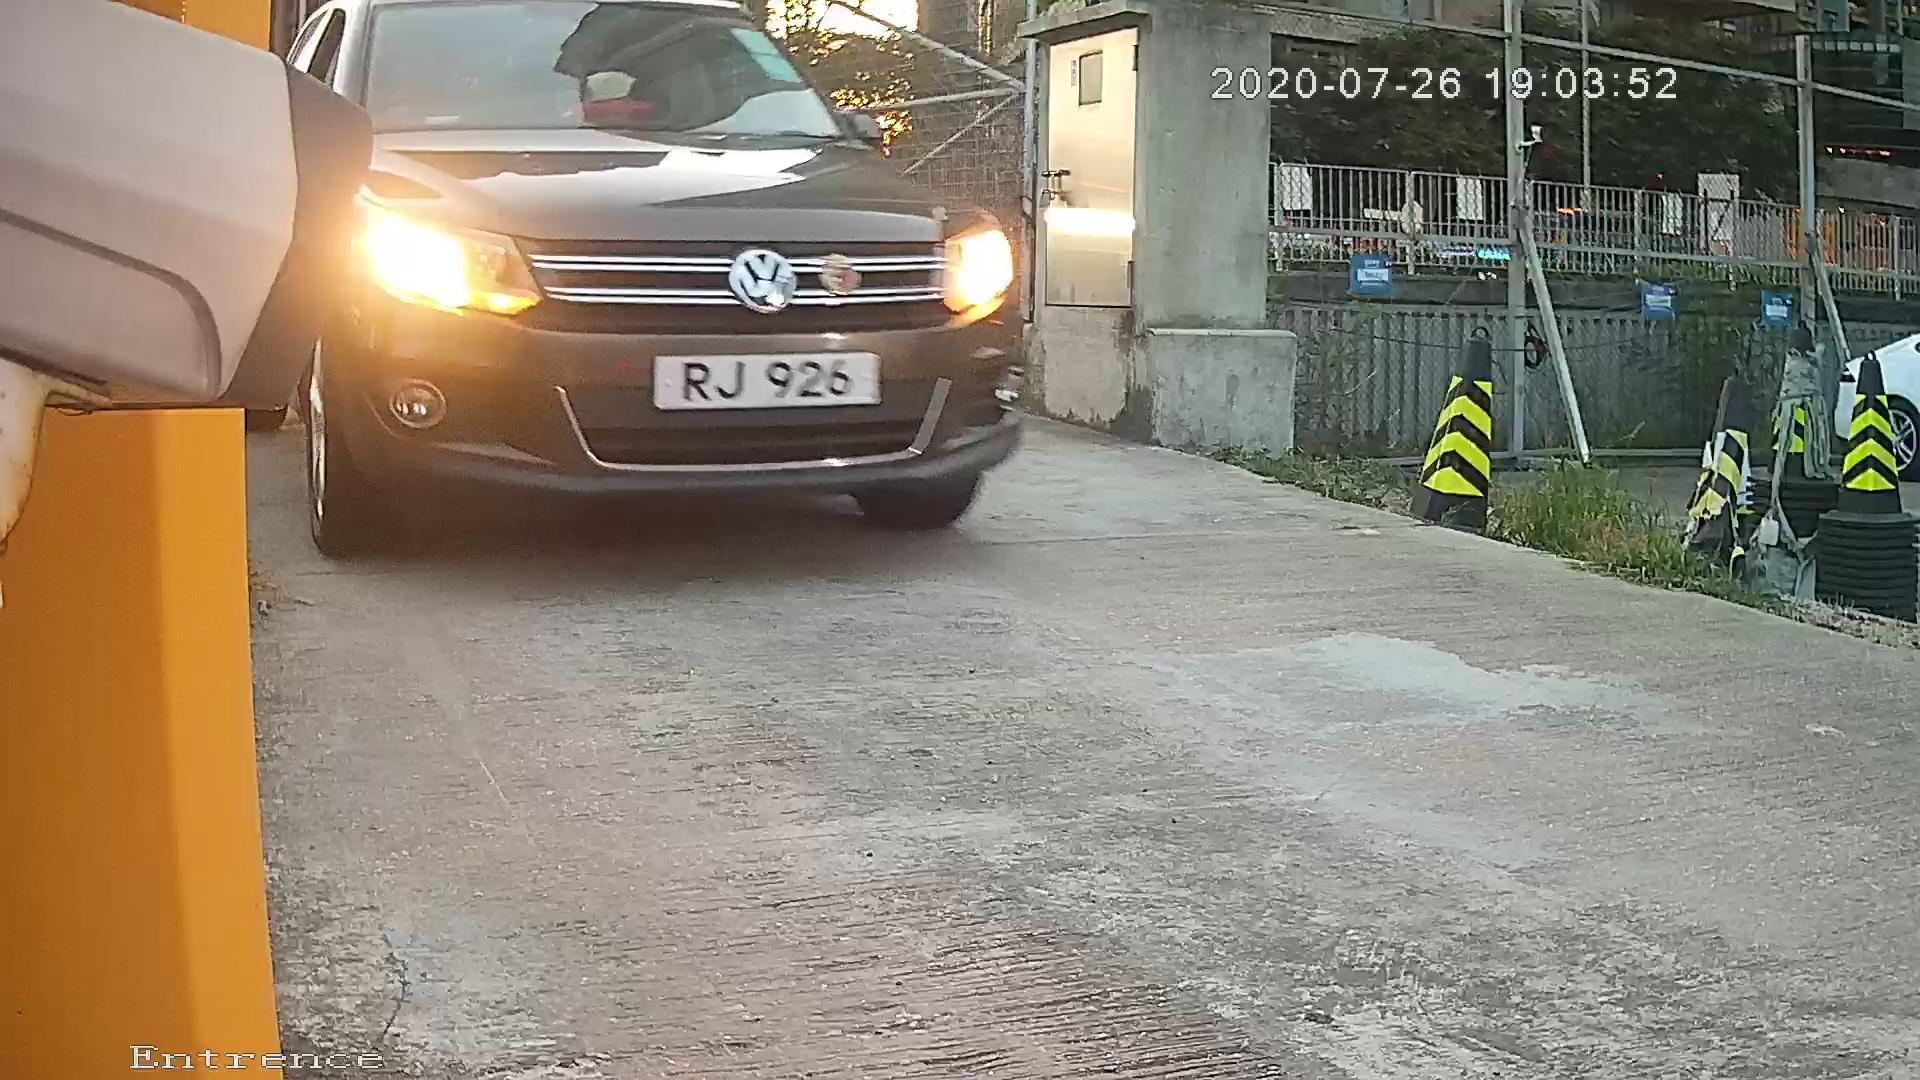License Plate: (601, 338, 909, 420)
